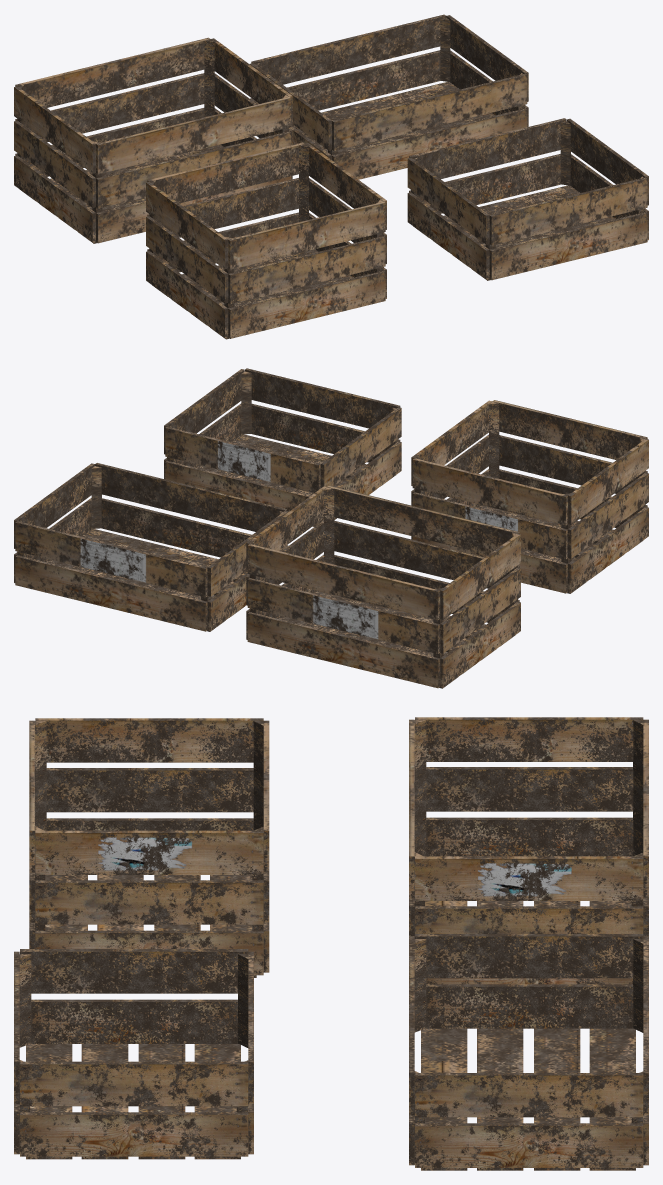
File: Crate.glb
The picture shows the model from 3 angles, top to bottom: view 1: azimuth 30°, elevation 25°; view 2: azimuth 150°, elevation 25°; view 3: azimuth 270°, elevation 25°; orthographic projection. The views are drawn at different scales.
Visible parts, largest first — view 1: wooden_vegetable_crate.3, wooden_vegetable_crate, wooden_vegetable_crate.2, wooden_vegetable_crate.1; view 2: wooden_vegetable_crate, wooden_vegetable_crate.3, wooden_vegetable_crate.1, wooden_vegetable_crate.2; view 3: wooden_vegetable_crate.1, wooden_vegetable_crate.3, wooden_vegetable_crate, wooden_vegetable_crate.2.
Part boxes in pixels (x1=…): wooden_vegetable_crate.3: x1=146, y1=142, x2=386, y2=339; wooden_vegetable_crate: x1=14, y1=37, x2=292, y2=243; wooden_vegetable_crate.2: x1=407, y1=118, x2=648, y2=280; wooden_vegetable_crate.1: x1=249, y1=14, x2=528, y2=179; wooden_vegetable_crate: x1=246, y1=485, x2=520, y2=688; wooden_vegetable_crate.3: x1=411, y1=400, x2=648, y2=593; wooden_vegetable_crate.1: x1=14, y1=463, x2=288, y2=631; wooden_vegetable_crate.2: x1=164, y1=368, x2=401, y2=526; wooden_vegetable_crate.1: x1=409, y1=934, x2=648, y2=1170; wooden_vegetable_crate.3: x1=29, y1=718, x2=269, y2=977; wooden_vegetable_crate: x1=409, y1=717, x2=648, y2=984; wooden_vegetable_crate.2: x1=14, y1=949, x2=253, y2=1159.
Bounding box in the file's own units: 0.9338 × 0.2081 × 0.8129.
Materials: 4 (4 with a texture image).
